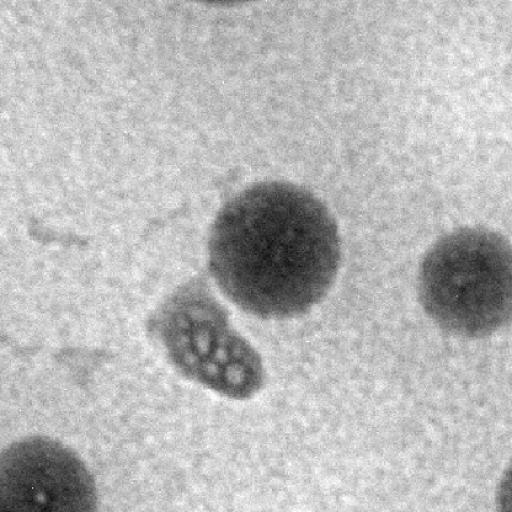Nanoparticles: (210, 178, 342, 315), (414, 221, 512, 341), (0, 432, 102, 512), (496, 451, 512, 512)
